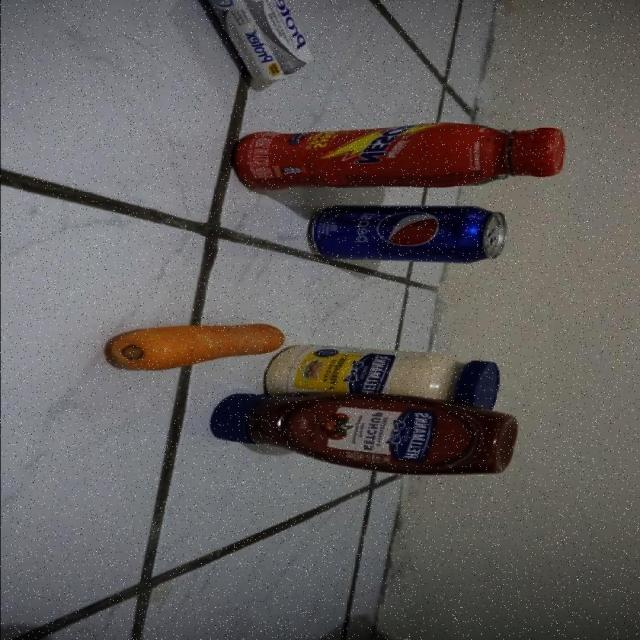Carrot: (110, 326, 286, 368)
ChocolateMilk: (237, 123, 570, 188)
Ketchup: (214, 394, 506, 475)
Mayonnaise: (265, 344, 502, 396)
Soap: (201, 0, 322, 78)
SodaCan: (312, 202, 515, 266)
